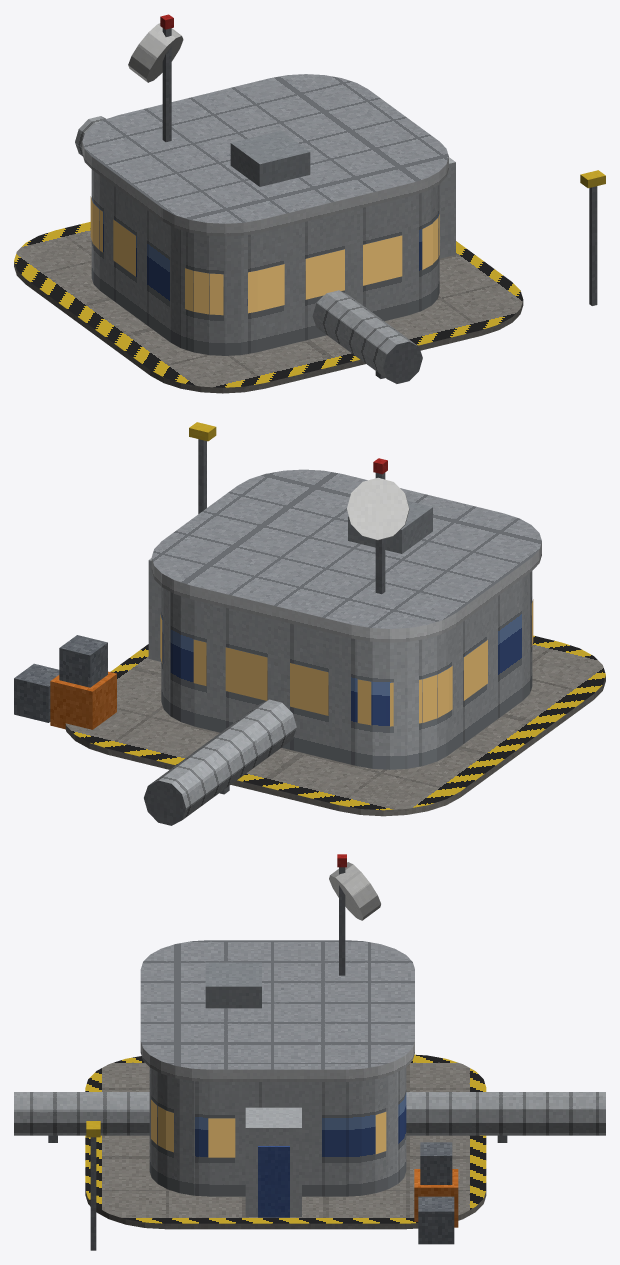
The model's file is mars_0_inhab_bydleni_a.glb.
3 renders of one model, top to bottom at view 1: azimuth 30°, elevation 25°; view 2: azimuth 150°, elevation 25°; view 3: azimuth 270°, elevation 25°, orthographic. The views are drawn at different scales.
Parts seen in each view (by area): view 1: inhab_bydleni_a, noc; view 2: inhab_bydleni_a, noc; view 3: inhab_bydleni_a, noc.
Part boxes in pixels (box(x1,y1,x2,y2)): inhab_bydleni_a: box(14, 14, 605, 393); noc: box(90, 196, 439, 315); inhab_bydleni_a: box(14, 422, 605, 825); noc: box(160, 599, 533, 726); inhab_bydleni_a: box(14, 854, 605, 1250); noc: box(151, 1099, 386, 1157).
Size of the model in its own units: 11.45 by 6.99 by 14.76.
1 material, 1 textured.
